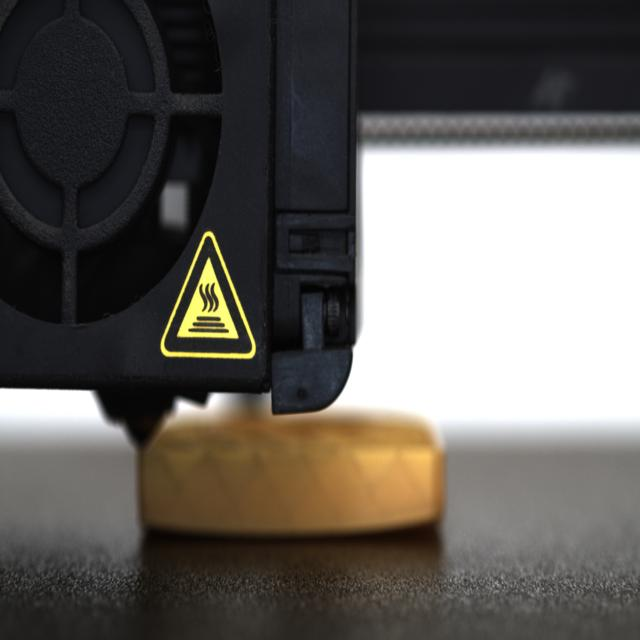Warping: (364, 503, 448, 543)
